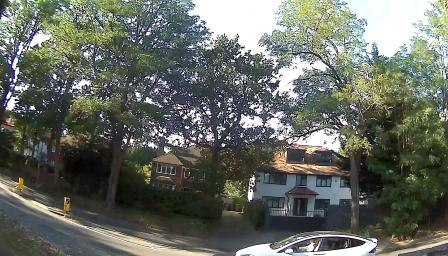Cars: (222, 229, 394, 256)
